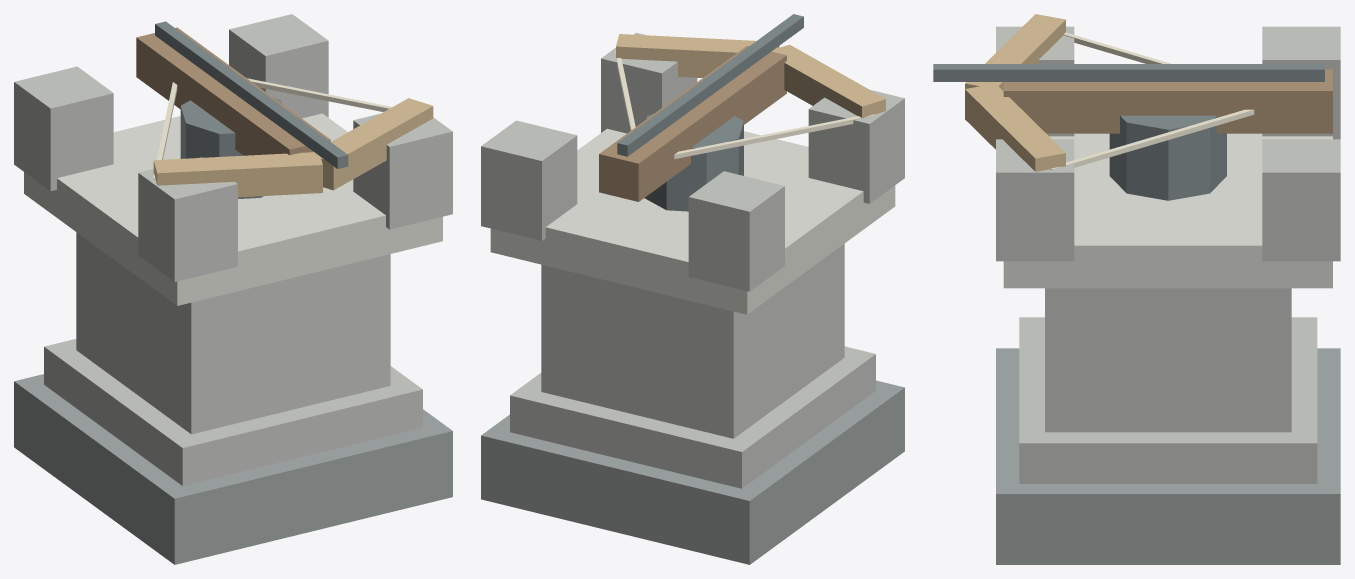
The model's file is human_ballista_t1.glb.
3 renders of one model, left to right at view 1: azimuth 30°, elevation 25°; view 2: azimuth 150°, elevation 25°; view 3: azimuth 270°, elevation 25°, orthographic. The views are drawn at different scales.
Parts seen in each view (by area): view 1: human_ballista_t1_MAT_stone, human_ballista_t1_MAT_dark, human_ballista_t1_MAT_light, human_ballista_t1_MAT_edge, human_ballista_t1_MAT_wood, human_ballista_t1_MAT_iron, human_ballista_t1_MAT_white; view 2: human_ballista_t1_MAT_stone, human_ballista_t1_MAT_dark, human_ballista_t1_MAT_light, human_ballista_t1_MAT_wood, human_ballista_t1_MAT_iron, human_ballista_t1_MAT_edge, human_ballista_t1_MAT_white; view 3: human_ballista_t1_MAT_stone, human_ballista_t1_MAT_dark, human_ballista_t1_MAT_light, human_ballista_t1_MAT_iron, human_ballista_t1_MAT_wood, human_ballista_t1_MAT_edge, human_ballista_t1_MAT_white.
Part boxes in pixels (bbox=[...]): human_ballista_t1_MAT_stone: bbox=[14, 14, 452, 485]; human_ballista_t1_MAT_dark: bbox=[14, 374, 452, 564]; human_ballista_t1_MAT_light: bbox=[24, 113, 442, 305]; human_ballista_t1_MAT_edge: bbox=[153, 98, 433, 197]; human_ballista_t1_MAT_wood: bbox=[136, 27, 330, 155]; human_ballista_t1_MAT_iron: bbox=[155, 21, 348, 198]; human_ballista_t1_MAT_white: bbox=[153, 78, 391, 178]; human_ballista_t1_MAT_stone: bbox=[481, 32, 904, 488]; human_ballista_t1_MAT_dark: bbox=[481, 380, 904, 564]; human_ballista_t1_MAT_light: bbox=[490, 128, 895, 314]; human_ballista_t1_MAT_wood: bbox=[599, 45, 786, 201]; human_ballista_t1_MAT_iron: bbox=[617, 14, 803, 211]; human_ballista_t1_MAT_edge: bbox=[616, 34, 885, 118]; human_ballista_t1_MAT_white: bbox=[615, 51, 875, 158]; human_ballista_t1_MAT_stone: bbox=[996, 26, 1340, 483]; human_ballista_t1_MAT_dark: bbox=[996, 348, 1340, 564]; human_ballista_t1_MAT_light: bbox=[1003, 133, 1332, 288]; human_ballista_t1_MAT_iron: bbox=[933, 64, 1324, 200]; human_ballista_t1_MAT_wood: bbox=[1003, 69, 1332, 133]; human_ballista_t1_MAT_edge: bbox=[965, 14, 1065, 171]; human_ballista_t1_MAT_white: bbox=[1050, 32, 1254, 169].
Bounding box in the file's own units: 0.88 × 1.2 × 1.04.
